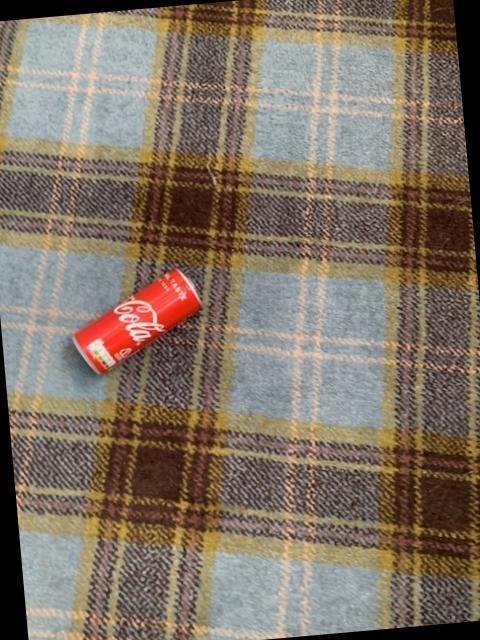metal: (74, 270, 200, 374)
